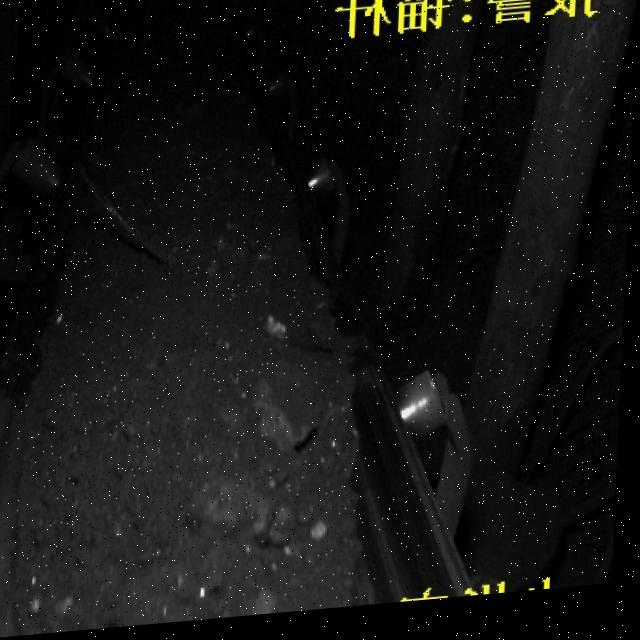bolt: (77, 159, 332, 383)
large_sized_coal: (193, 476, 301, 557), (232, 385, 322, 461)
